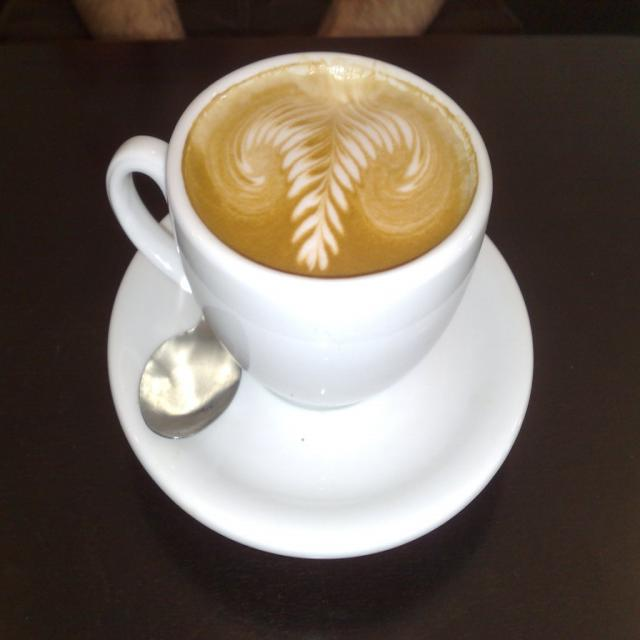Coffee: (119, 57, 487, 415)
